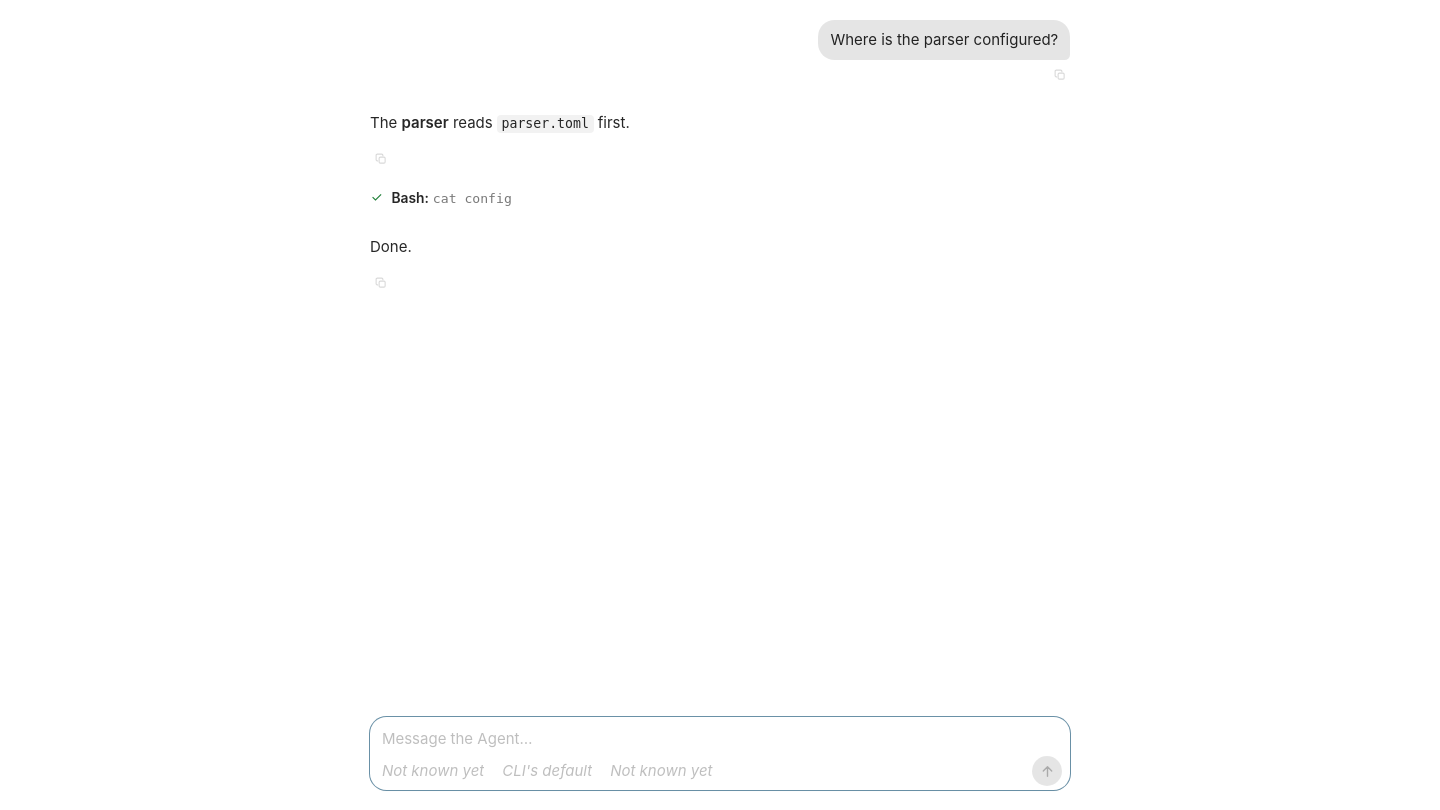
Test case: the find bar › matches case only when asked to
This screenshot has width=1440, height=810.
Press f in the text box labelled "Message the Agent…", box x1=382 y1=725 x2=1062 y2=752
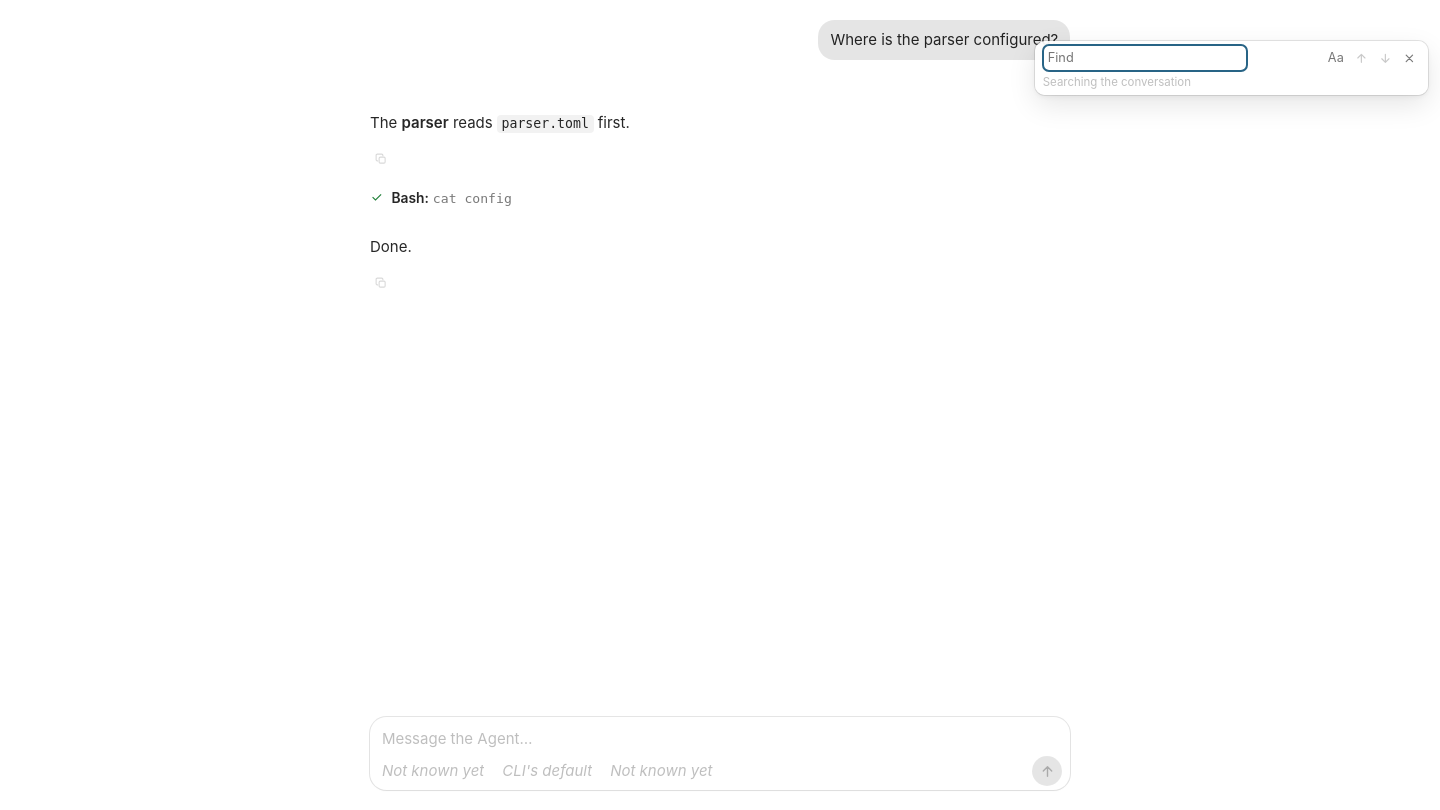
Type "Parser" into the field labelled "Find".
click(1145, 58); type("Parser")  # box x1=1043 y1=45 x2=1247 y2=71
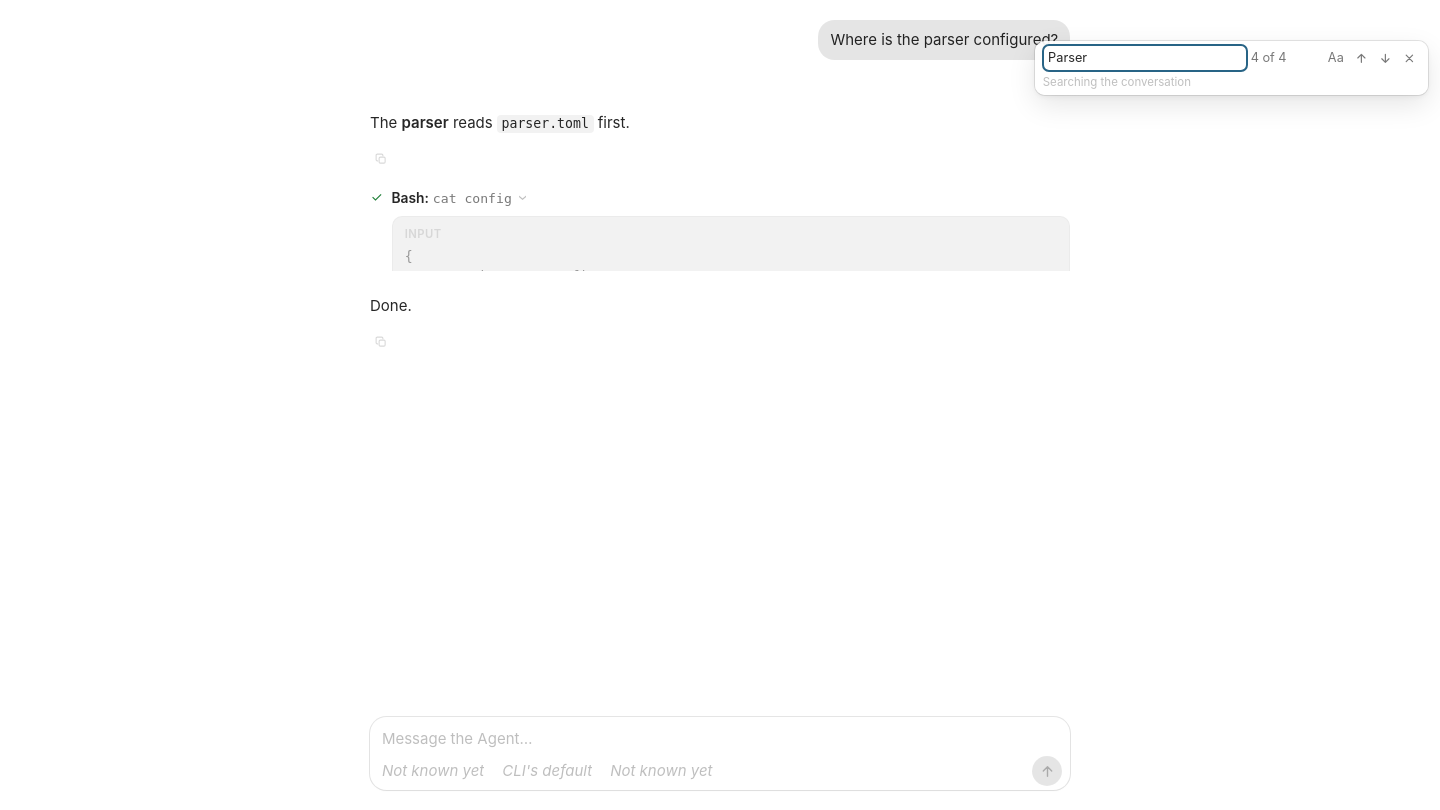
Expected: the text with class "conversation-find-count" reads "4 of 4", x1=1251 y1=50 x2=1286 y2=65
Click the button with aria-label "Match case".
click(1336, 58)  # box x1=1325 y1=48 x2=1347 y2=68
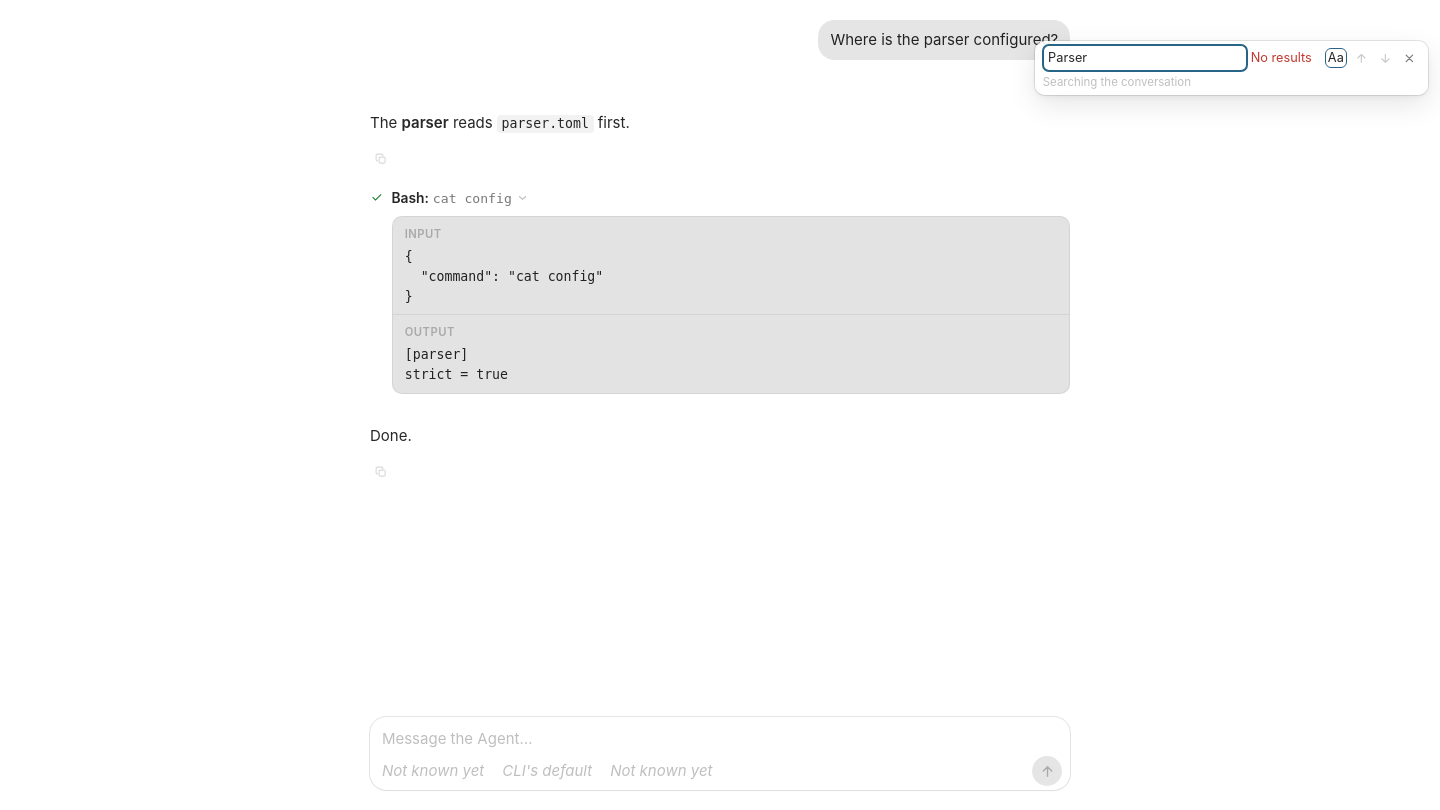
Expected: the text with class "conversation-find-count" reads "No results", x1=1251 y1=50 x2=1312 y2=65
